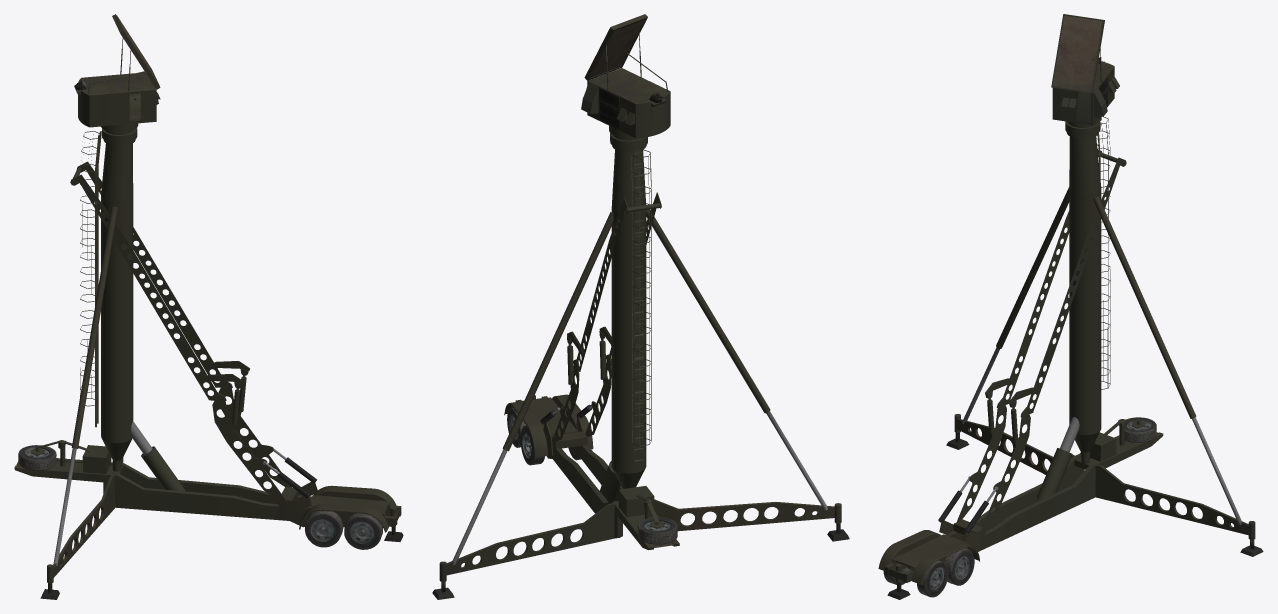
The model's file is radar_30n6e.glb.
3 renders of one model, left to right at view 1: azimuth 30°, elevation 25°; view 2: azimuth 150°, elevation 25°; view 3: azimuth 270°, elevation 25°, orthographic. The views are drawn at different scales.
Visible parts, largest first — view 1: radar_30n6e; view 2: radar_30n6e; view 3: radar_30n6e.
Part boxes in pixels (bbox=[...]): radar_30n6e: bbox=[14, 14, 403, 599]; radar_30n6e: bbox=[432, 14, 849, 599]; radar_30n6e: bbox=[878, 14, 1263, 599].
Bounding box in the file's own units: 17.92 × 25 × 17.68.
2 materials, 2 textured.
